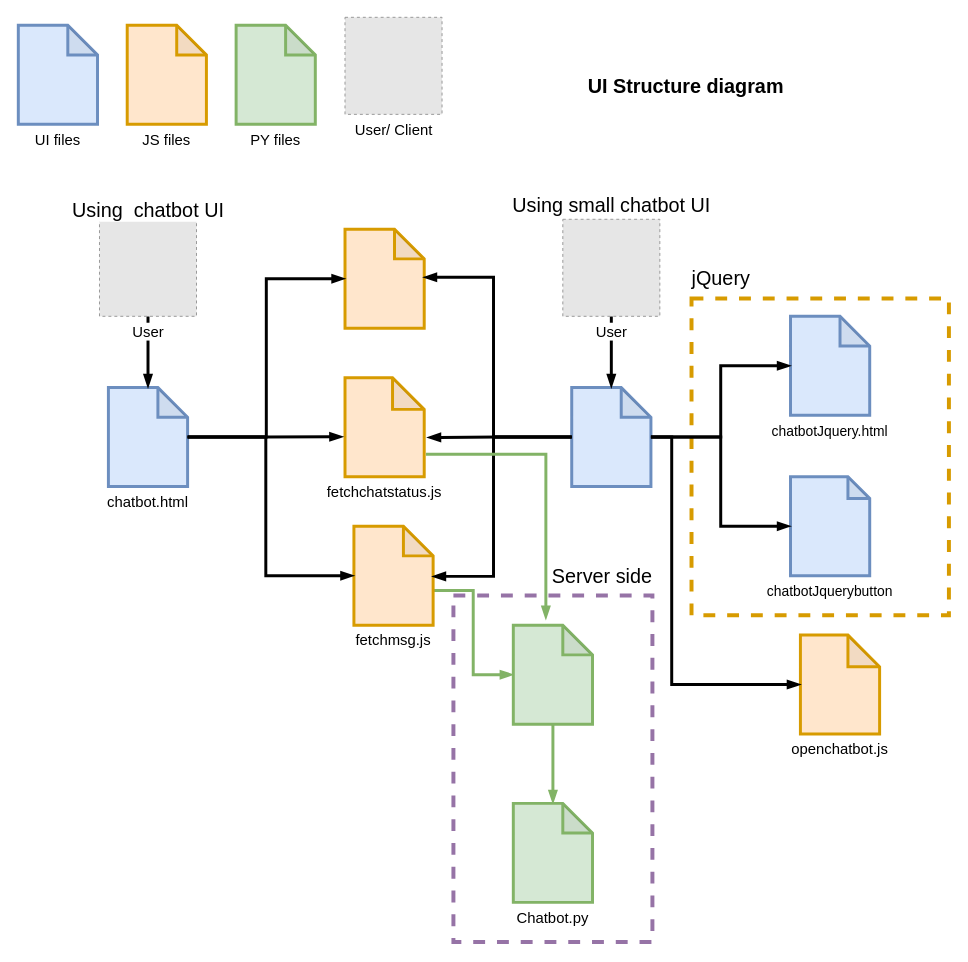
The diagram is 968 pixels wide and 962 high, and some of its shapes have lost their labels. Grey dashed boxes stand in for pictures. Here are the shapes that lost their labels. From the top down, the centre of each, then its label:
At point (384, 278): "cookie.js".
At point (611, 437): "index.html".
At point (552, 674): "app.py".
